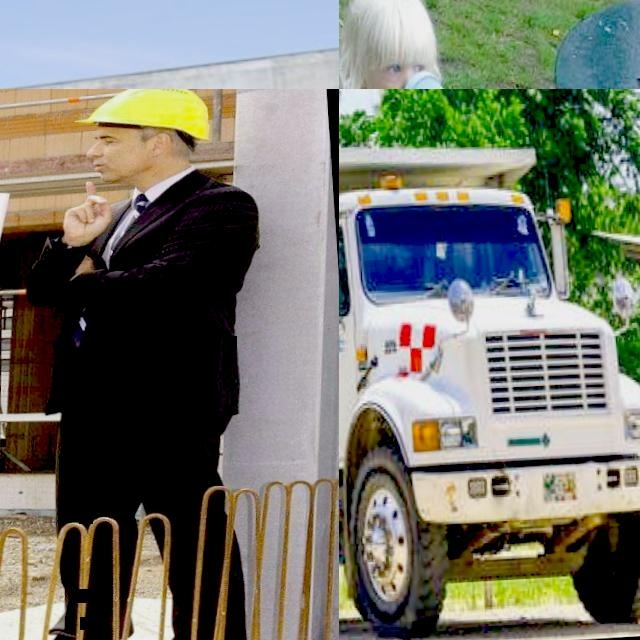Hardhat: (75, 89, 209, 148)
NO-Hardhat: (339, 0, 437, 66)
NO-Mask: (89, 149, 159, 183), (363, 75, 414, 89)
NO-Safety Vest: (43, 183, 266, 410)
Person: (0, 89, 289, 640), (339, 0, 550, 89)
machinery: (339, 127, 640, 640)
